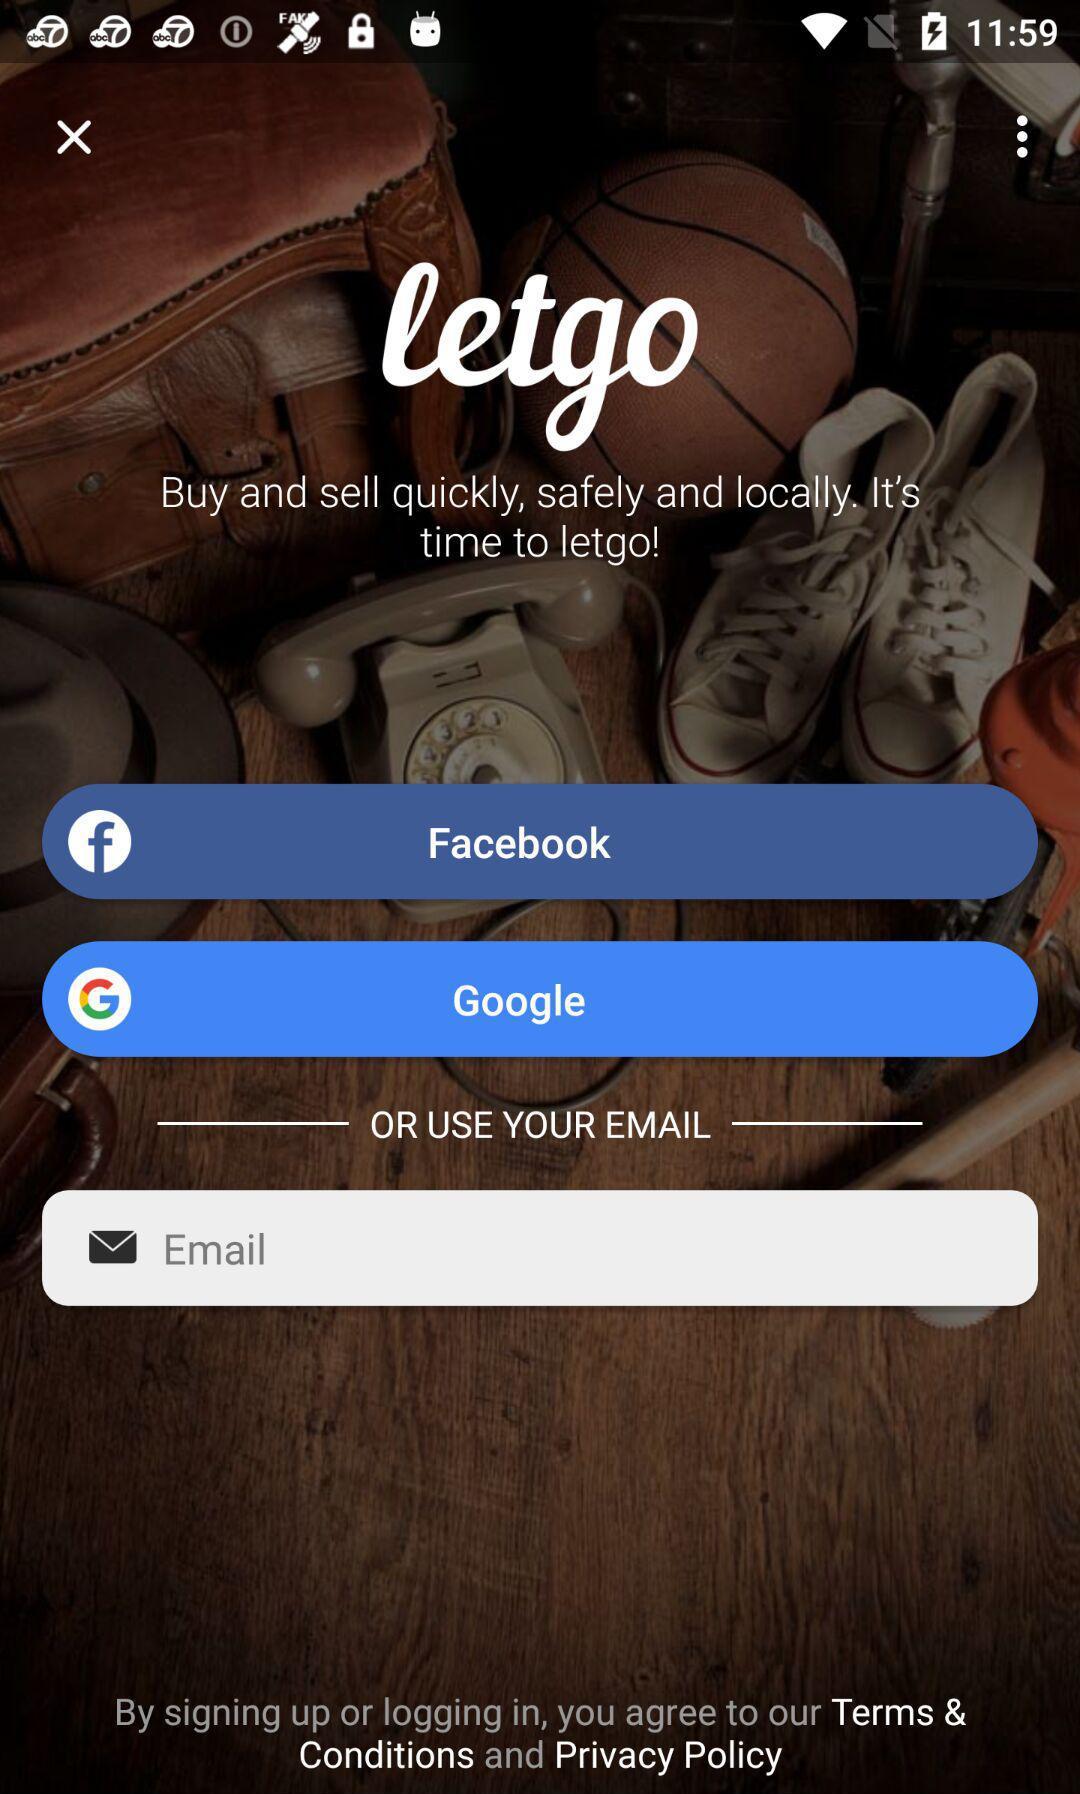BackgroundImage: (1, 64, 1080, 1794)
Icon: (56, 120, 94, 156), (1015, 115, 1030, 160)
Image: (380, 261, 700, 454)
Text: (161, 473, 921, 568), (117, 1697, 967, 1777), (370, 1108, 714, 1140)
TextButton: (42, 941, 1039, 1058), (42, 1190, 1038, 1307), (42, 784, 1039, 900)
UpperTaskBar: (1, 1, 1080, 64)
